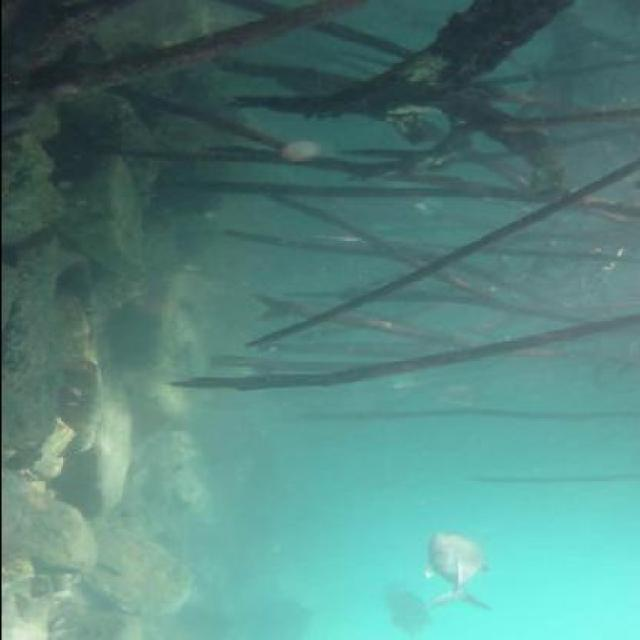Caranx_sexfasciatus_juvenile: (411, 533, 498, 616), (440, 378, 502, 413), (426, 319, 496, 346), (369, 368, 437, 395)
